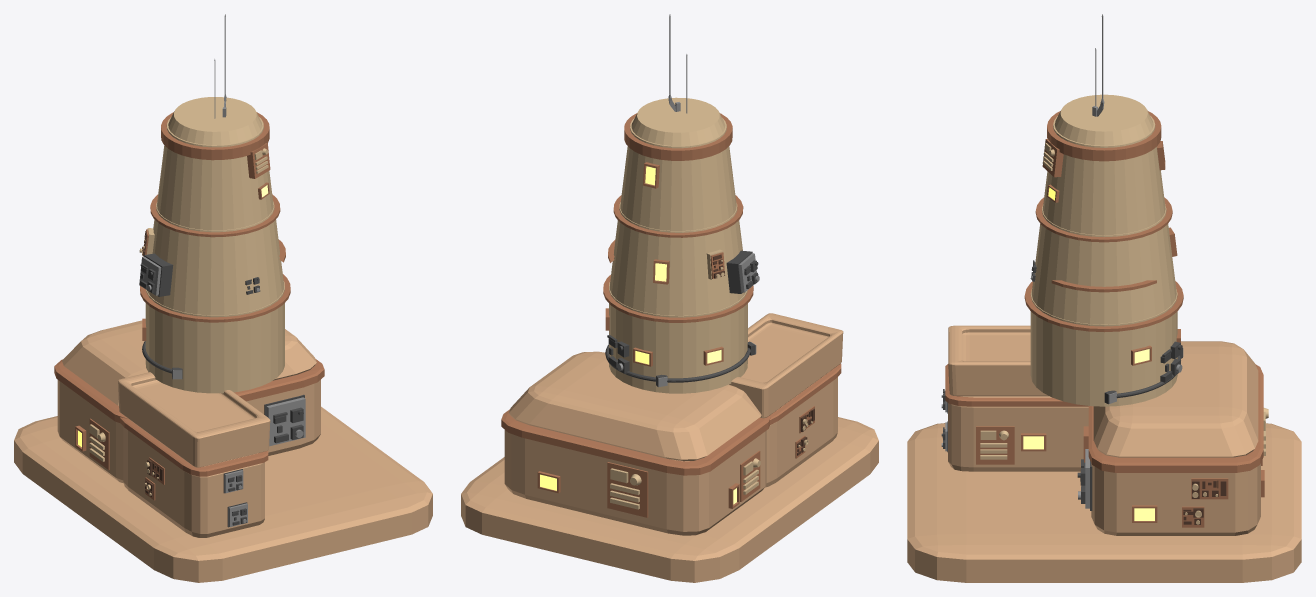
Rendered from nomad_building_36.fbx.
3 renders of one model, left to right at view 1: azimuth 30°, elevation 25°; view 2: azimuth 150°, elevation 25°; view 3: azimuth 270°, elevation 25°, orthographic. The views are drawn at different scales.
Visible parts, largest first — view 1: B36_M_Foundation_square, B36_T_Drum0, B36_T_Drum1, B36_M_R01_roof_simple, B36_T_Drum2, B36_M_Blk01_rectangular_unit, B36_M_R00_rect_base_roof_default, B36_M_Blk00_rect_base, B36_T_Crown_TowerBody_RoofCap, B36_M_B00_Band_Cube021, B36_M_B01_Band_square_diameter_default, B36_T_Ring20_TowerTrim_BandTall (+4 smaller); view 2: B36_M_Foundation_square, B36_M_R00_rect_base_roof_default, B36_M_Blk00_rect_base, B36_T_Drum1, B36_T_Drum0, B36_T_Drum2, B36_M_R01_roof_simple, B36_M_B00_Band_Cube021, B36_M_Blk01_rectangular_unit, B36_T_Crown_TowerBody_RoofCap, B36_T_Ring20_TowerTrim_BandTall, B36_M_Panel4_PanelBox_Body001 (+5 smaller); view 3: B36_M_Foundation_square, B36_M_R00_rect_base_roof_default, B36_T_Drum1, B36_T_Drum0, B36_M_Blk00_rect_base, B36_T_Drum2, B36_M_Blk01_rectangular_unit, B36_M_R01_roof_simple, B36_T_Crown_TowerBody_RoofCap, B36_M_B00_Band_Cube021, B36_T_Ring20_TowerTrim_BandTall, B36_M_B01_Band_square_diameter_default (+5 smaller).
Part boxes in pixels (x1,y1,x2,y2): B36_M_Foundation_square: (14,406,432,582); B36_T_Drum0: (145,281,284,393); B36_T_Drum1: (147,201,284,315); B36_M_R01_roof_simple: (118,372,270,467); B36_T_Drum2: (157,117,273,230); B36_M_Blk01_rectangular_unit: (123,422,264,537); B36_M_R00_rect_base_roof_default: (62,320,316,405); B36_M_Blk00_rect_base: (57,380,320,483); B36_T_Crown_TowerBody_RoofCap: (168,97,262,145); B36_M_B00_Band_Cube021: (54,359,324,422); B36_M_B01_Band_square_diameter_default: (120,417,268,476); B36_T_Ring20_TowerTrim_BandTall: (161,112,269,160); B36_M_Foundation_square: (461,417,878,582); B36_M_R00_rect_base_roof_default: (509,351,761,461); B36_M_Blk00_rect_base: (504,430,766,535); B36_T_Drum1: (609,202,745,315); B36_T_Drum0: (609,282,747,393); B36_T_Drum2: (620,118,736,230); B36_M_R01_roof_simple: (729,313,843,418); B36_M_B00_Band_Cube021: (501,409,770,475); B36_M_Blk01_rectangular_unit: (765,371,837,487); B36_T_Crown_TowerBody_RoofCap: (631,97,725,145); B36_T_Ring20_TowerTrim_BandTall: (624,113,732,160); B36_M_Panel4_PanelBox_Body001: (607,462,648,517); B36_M_Foundation_square: (907,423,1301,582); B36_M_R00_rect_base_roof_default: (1093,341,1258,457); B36_T_Drum1: (1031,204,1176,324); B36_T_Drum0: (1030,288,1177,406); B36_M_Blk00_rect_base: (1091,463,1260,535); B36_T_Drum2: (1042,116,1165,235); B36_M_Blk01_rectangular_unit: (948,396,1088,471); B36_M_R01_roof_simple: (948,325,1049,396); B36_T_Crown_TowerBody_RoofCap: (1054,94,1153,145); B36_M_B00_Band_Cube021: (1088,364,1263,472); B36_T_Ring20_TowerTrim_BandTall: (1047,111,1161,161); B36_M_B01_Band_square_diameter_default: (945,364,1088,406).
Bounding box in the file's own units: 381 × 647 × 458.
